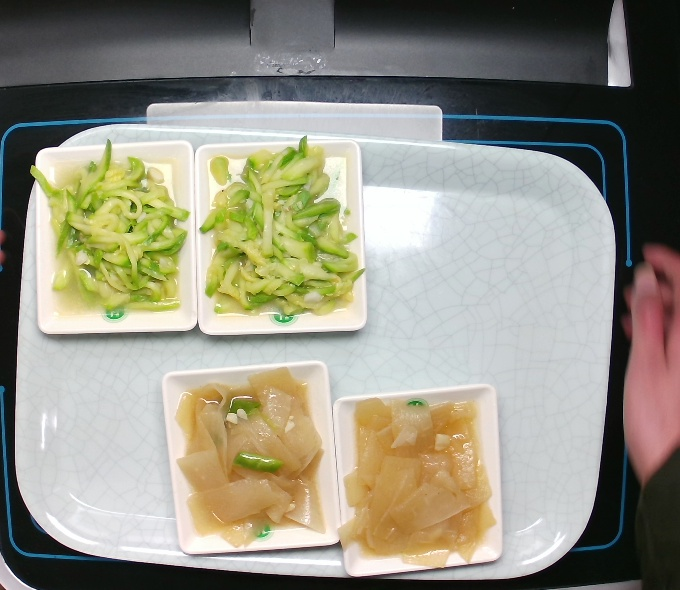wcq-LuoBo: (163, 360, 335, 544), (338, 385, 497, 570)
wcq-NenNanGua: (195, 140, 365, 326), (26, 141, 187, 314)
